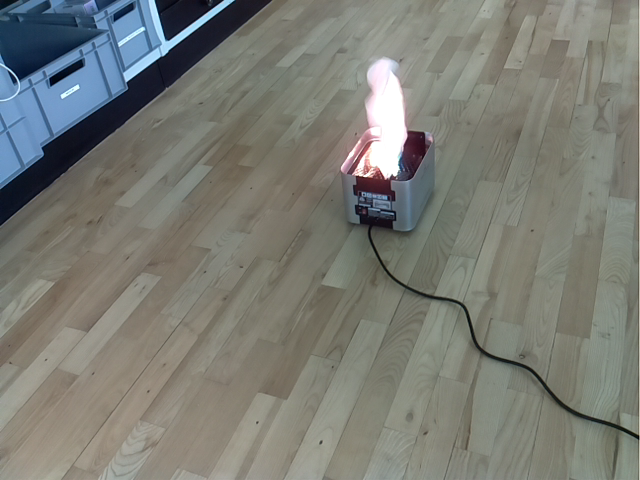fire: (365, 55, 409, 179)
